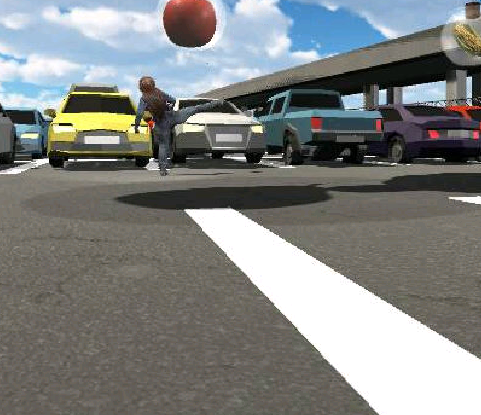turn_right: (129, 73, 229, 170)
